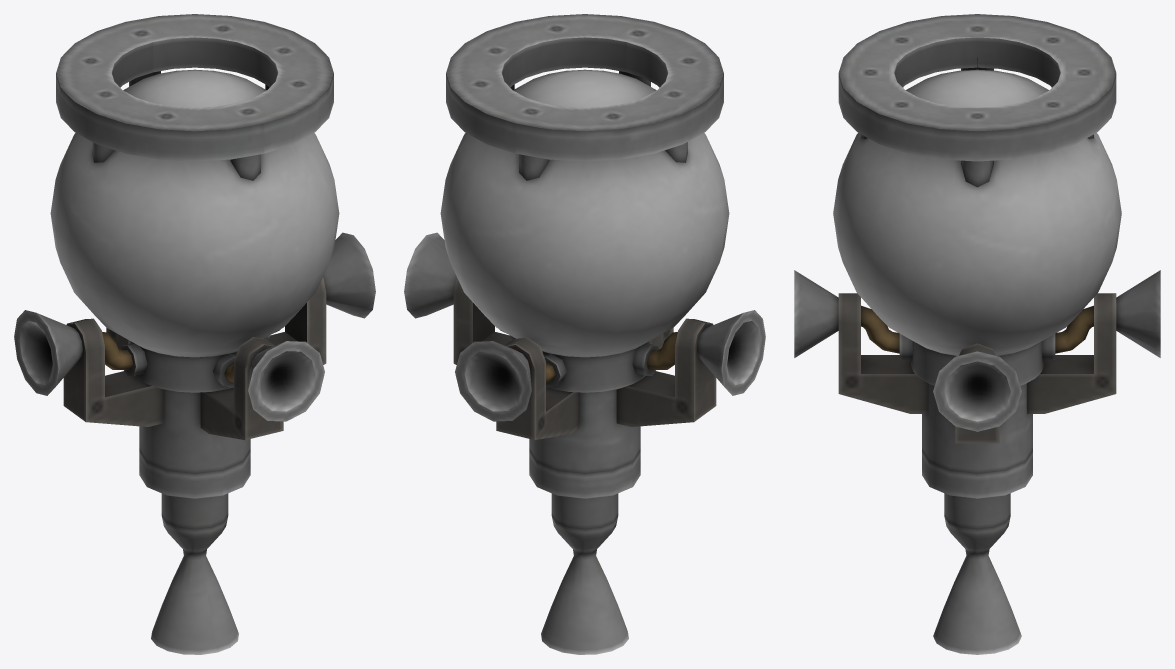
File: 2mv engine.obj
3 views of the same model, side by side, from view 1: azimuth 30°, elevation 25°; view 2: azimuth 150°, elevation 25°; view 3: azimuth 270°, elevation 25° (orthographic).
Visible parts, largest first — view 1: 2mv_engine; view 2: 2mv_engine; view 3: 2mv_engine.
Part boxes in pixels (<box>): 2mv_engine: <box>14,14,375,654</box>; 2mv_engine: <box>404,14,765,654</box>; 2mv_engine: <box>794,14,1160,654</box>.
Size of the model in its own units: 0.4125 by 0.7 by 0.4125.
1 material, 1 textured.
